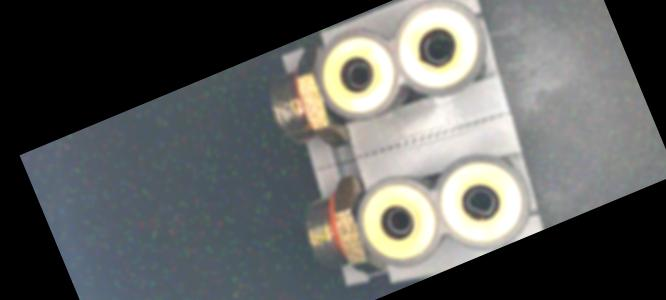off-centered: (410, 24, 462, 72), (457, 178, 503, 224)
